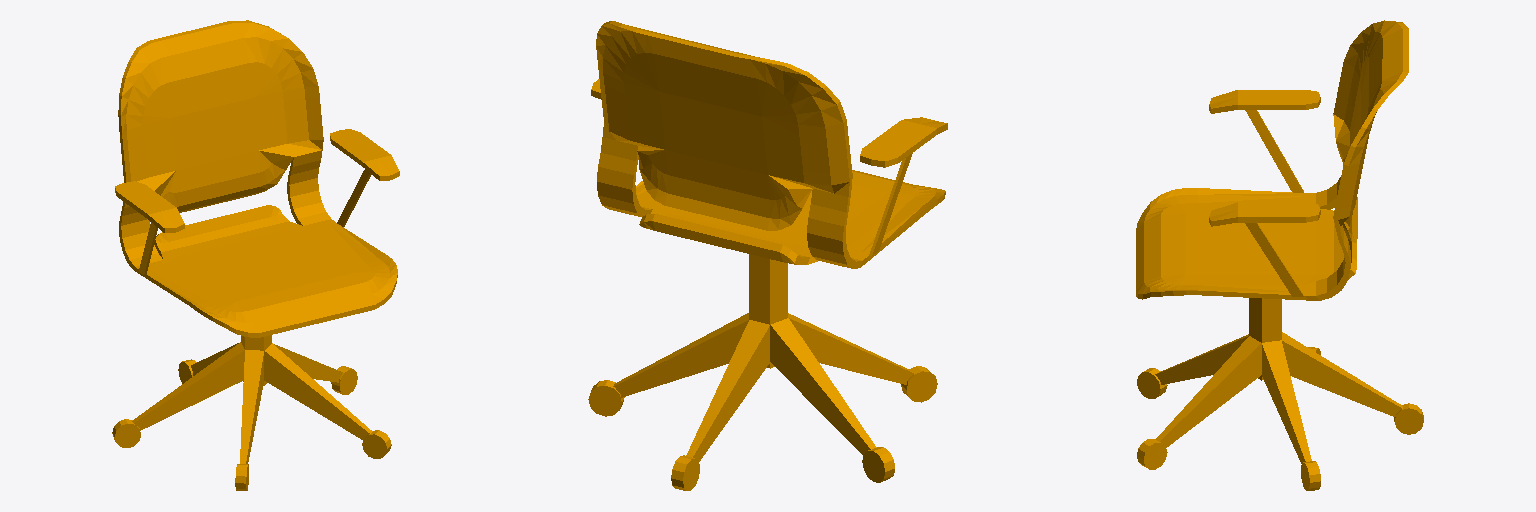
robot.urdf — none:
<robot name="none">
       <link name="none">
           <visual>
               <origin rpy="1.57 0 0" xyz="0 0 0" />
               <geometry>
                   <mesh filename="officeChair.obj" />
               </geometry>
           </visual>
          <collision>
              <geometry>
                  <box size="0.717032 1.000000 0.683208" />
              </geometry>
          </collision>

          <inertial>
            <mass value="0.0" />
            <inertia ixx="0.0" ixy="0.0" ixz="0.0" iyy="0.0" iyz="0.0" izz="0.0" />
          </inertial>
      </link>
  </robot>

--- Render facts (derived) ---
3 views of the same robot in one strip: view 1: azimuth 30°, elevation 25°; view 2: azimuth 150°, elevation 25°; view 3: azimuth 270°, elevation 25° (orthographic).
Robot: none — 1 links, 0 joints (none); root link none; default pose: all joints at 0.
Visible links, largest first — view 1: none; view 2: none; view 3: none.
Link boxes in pixels (x1=…): none: x1=112, y1=20, x2=399, y2=490; none: x1=588, y1=21, x2=947, y2=490; none: x1=1136, y1=20, x2=1423, y2=490.
Size in the robot's own frame: 0.717 by 0.6829 by 1 metres.
1 mesh visuals loaded from 1 distinct referenced files (1 OBJ).